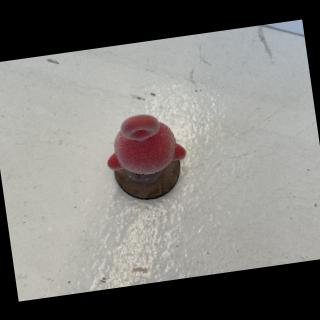teletubby: (107, 114, 185, 174)
